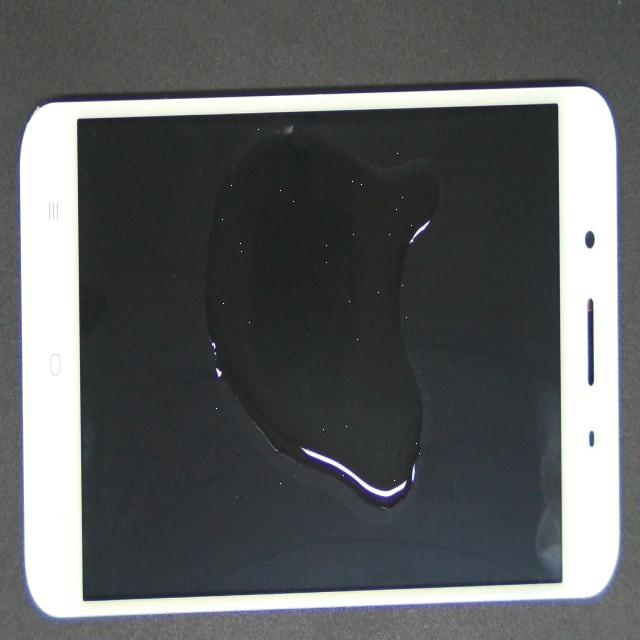oil: (201, 84, 491, 209)
